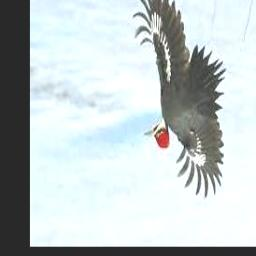Woodpecker: (132, 0, 226, 200)
